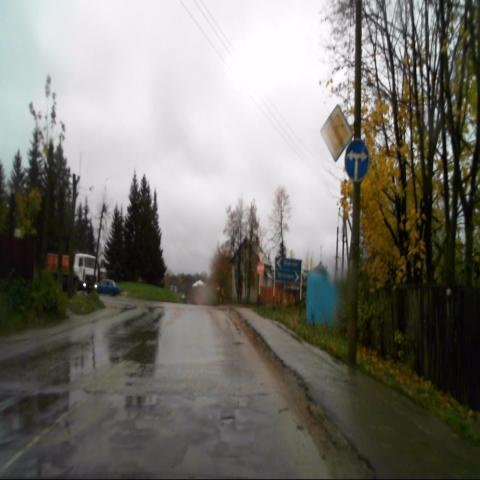2_2: (320, 104, 353, 162)
4_1_6: (345, 139, 369, 182)
